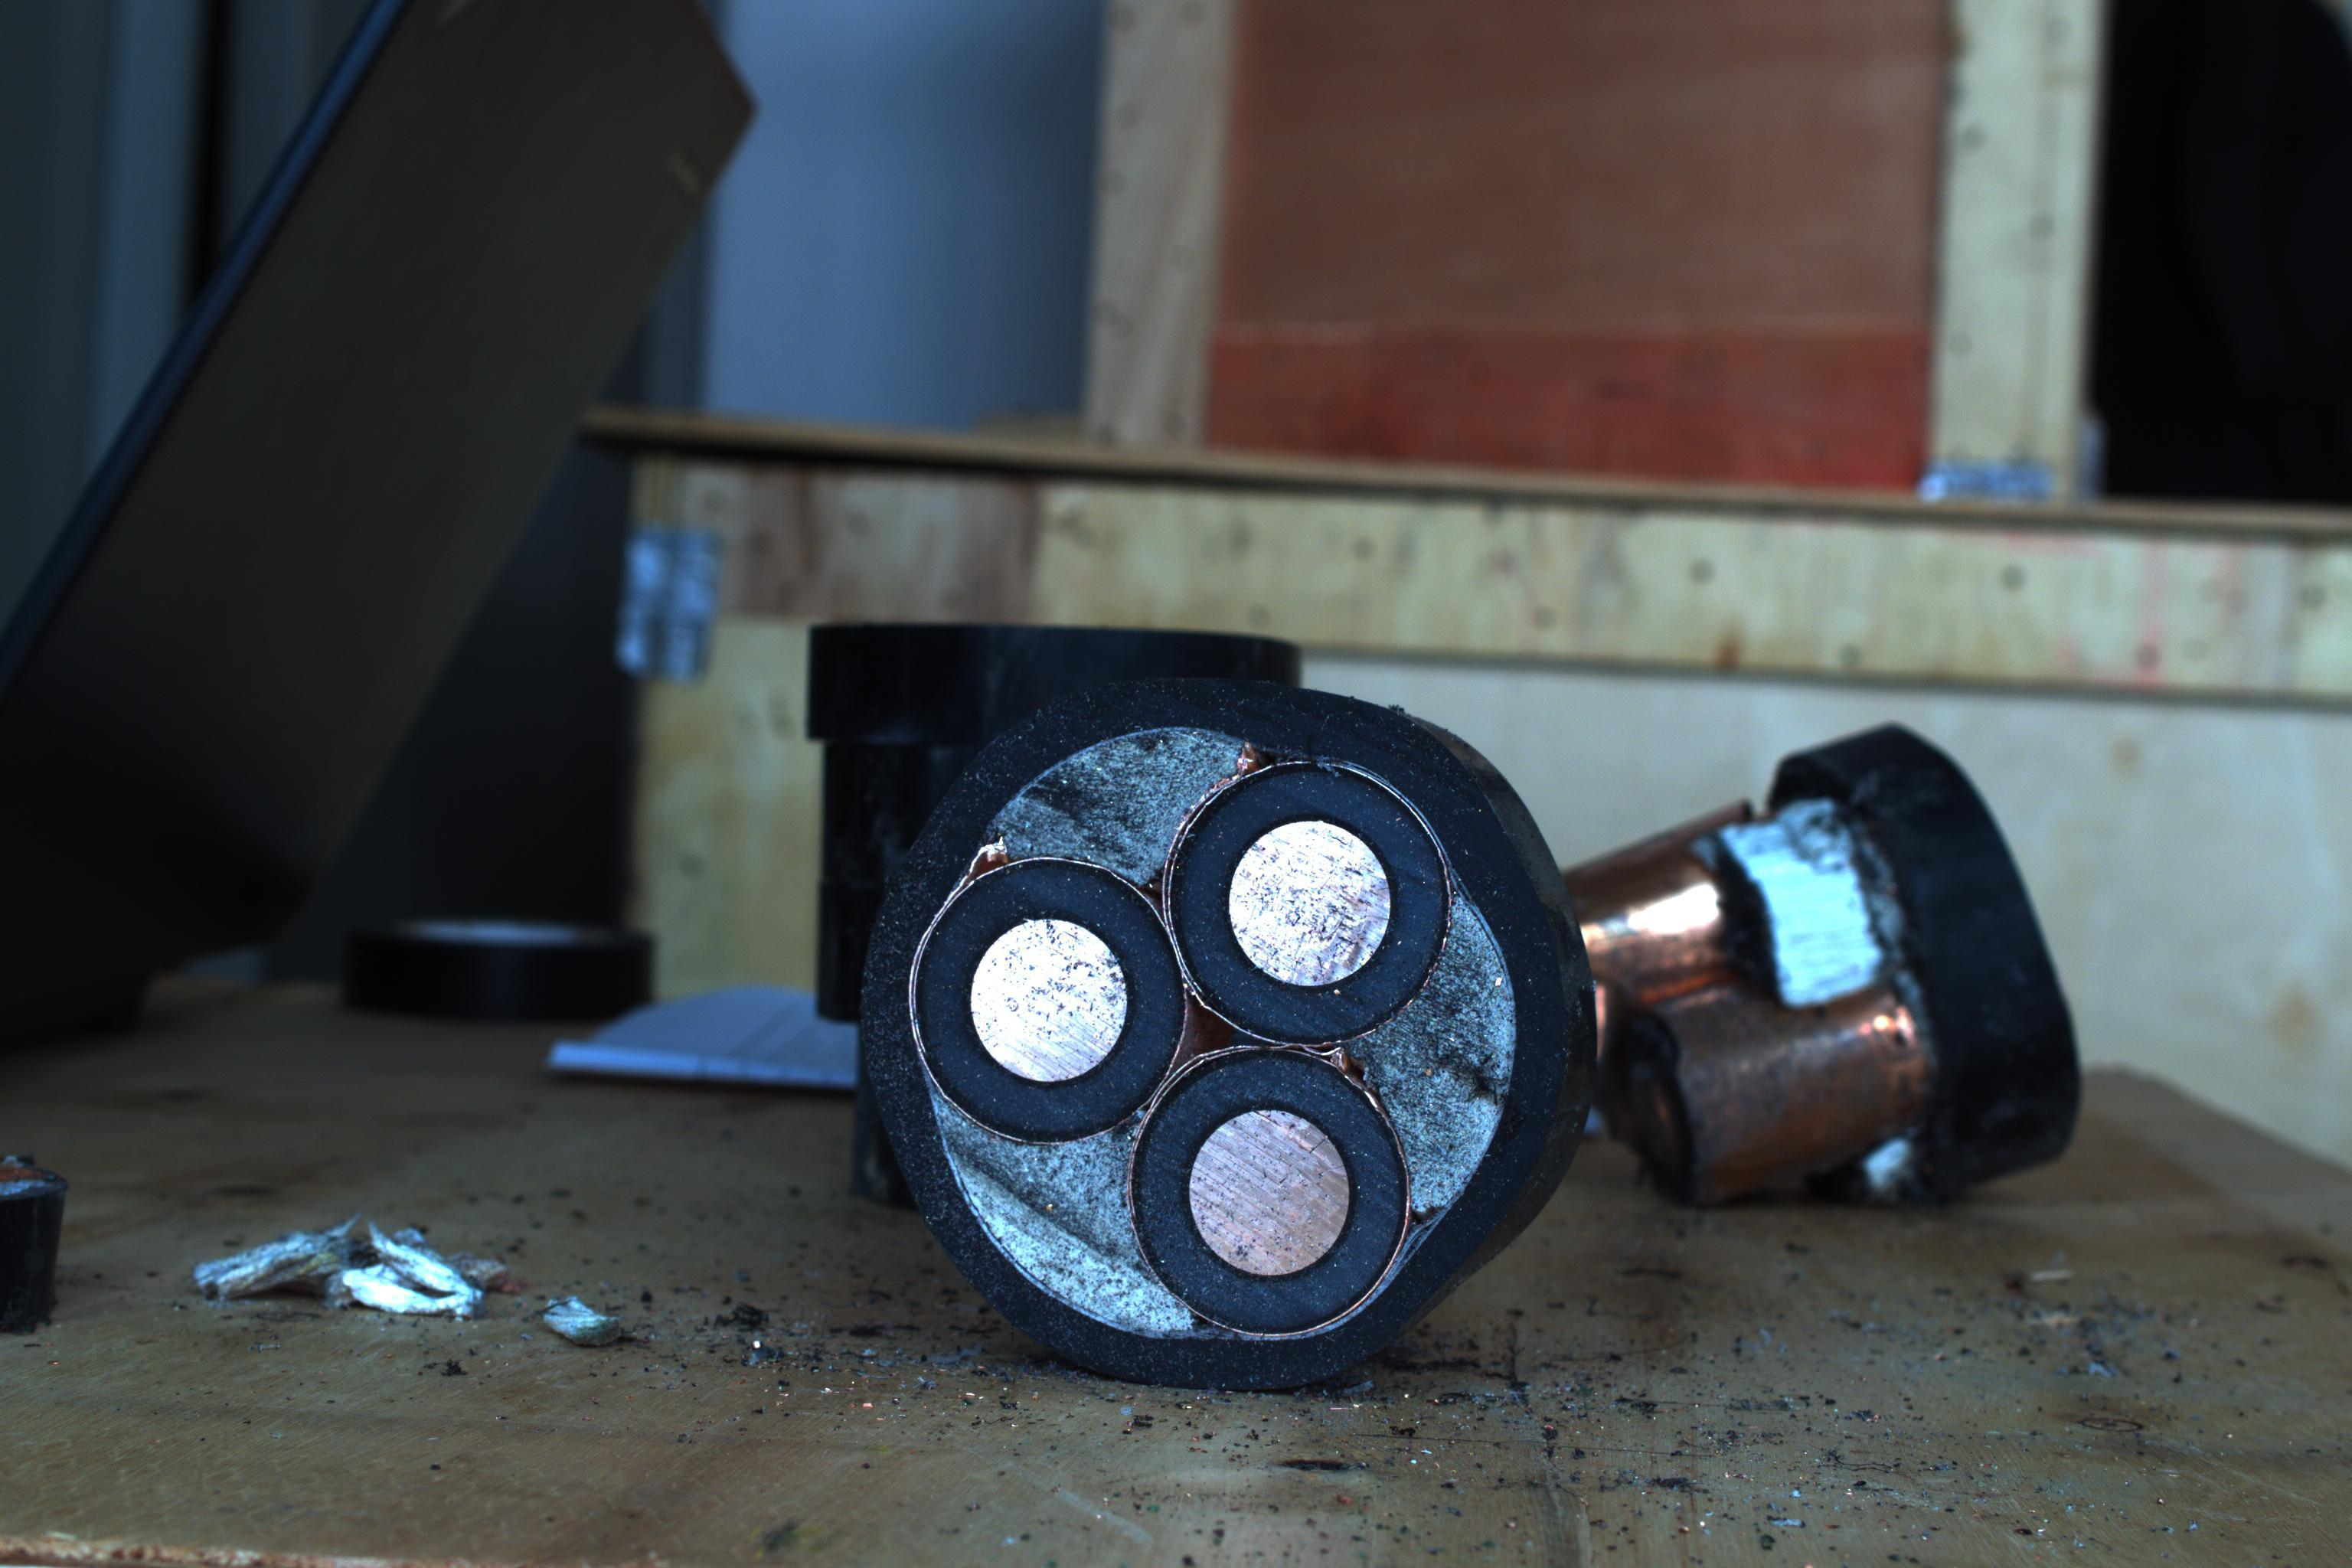ZA_YJV_8.7_10kV_3x240: (863, 688, 1533, 1370)
